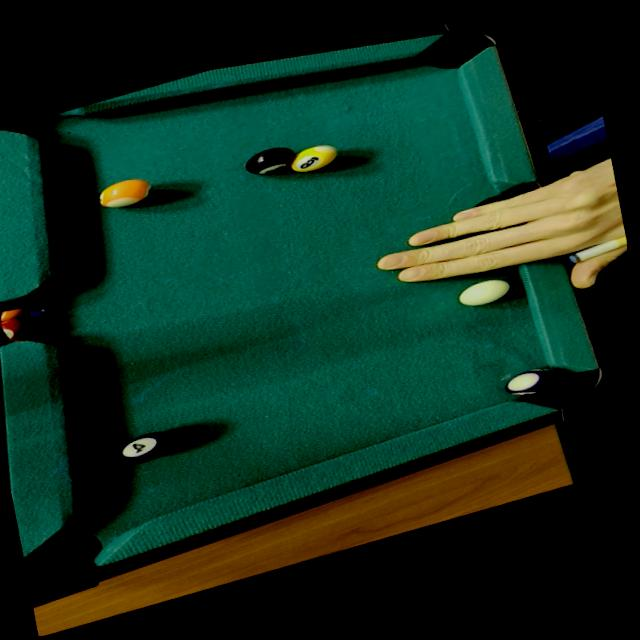cue ball: (449, 270, 516, 316)
other: (87, 169, 159, 219), (114, 423, 184, 472), (282, 134, 350, 183), (240, 138, 310, 183), (498, 359, 566, 405)
